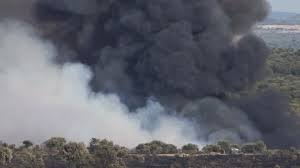smoke: (58, 1, 268, 68)
